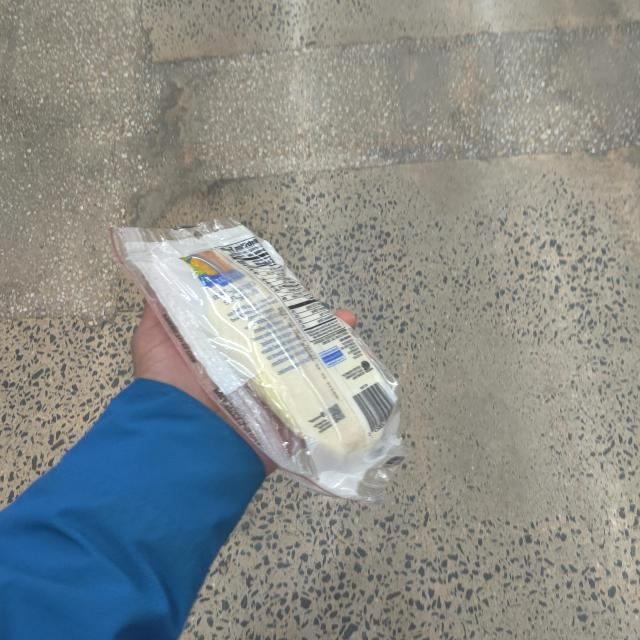cheese: (112, 220, 402, 486)
